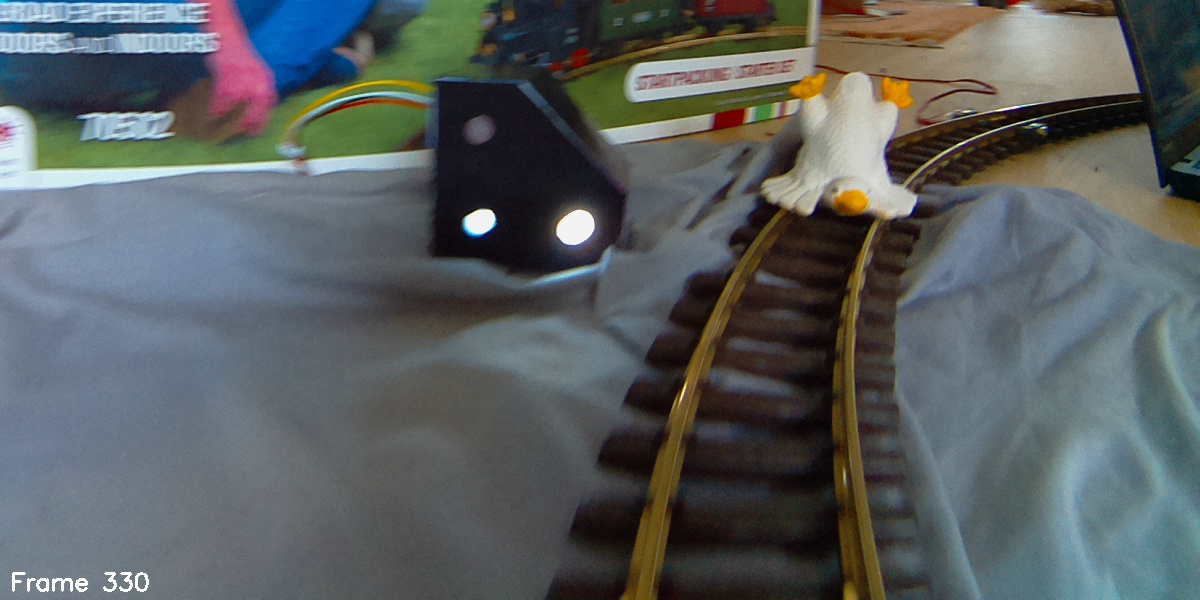Halt: (434, 70, 626, 270)
